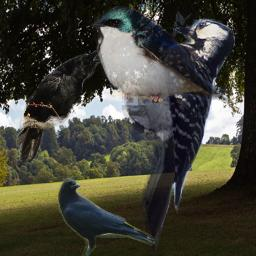Crow: (15, 48, 104, 162), (58, 177, 155, 256)
Swallow: (90, 5, 234, 103)
Woodpecker: (122, 9, 235, 256)
